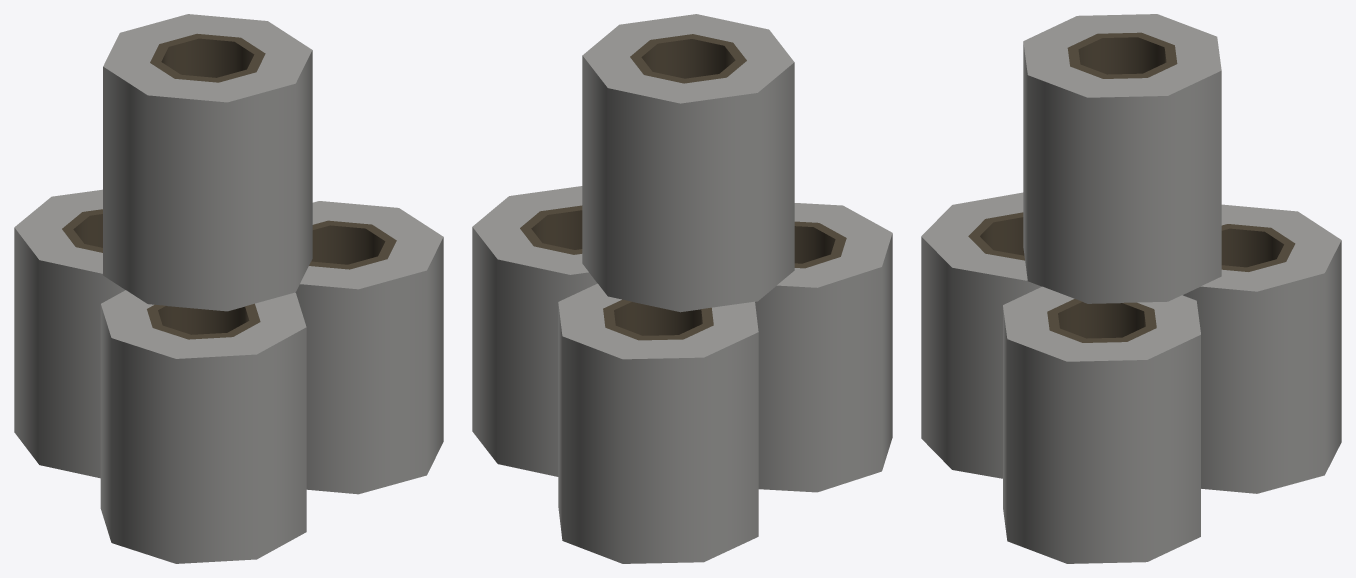
File: Bathroom_ToiletPaperPile.gltf
3 views of the same model, side by side, from view 1: azimuth 30°, elevation 25°; view 2: azimuth 150°, elevation 25°; view 3: azimuth 270°, elevation 25° (orthographic).
Parts seen in each view (by area): view 1: Bathroom_ToiletPaperPile; view 2: Bathroom_ToiletPaperPile; view 3: Bathroom_ToiletPaperPile.
Boxes of the visible parts, x1,y1,x2,y2 form: Bathroom_ToiletPaperPile: (14,14,443,563); Bathroom_ToiletPaperPile: (472,14,892,563); Bathroom_ToiletPaperPile: (921,14,1341,563).
Size of the model in its own units: 0.3345 by 0.3747 by 0.3498.
